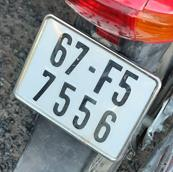5: (109, 66, 143, 110), (69, 90, 102, 133), (49, 79, 81, 120)
6: (88, 104, 125, 147), (46, 27, 77, 71)
7: (61, 37, 95, 81), (28, 67, 61, 107)
F: (91, 56, 127, 99)
